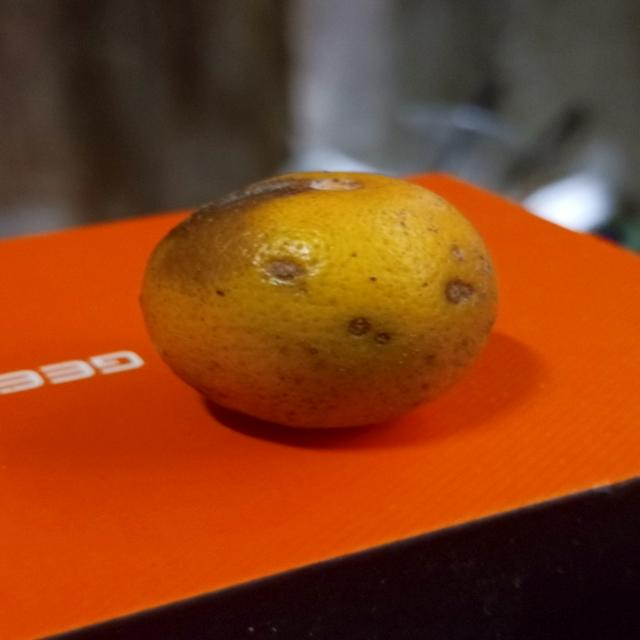black spot: (138, 166, 508, 428)
